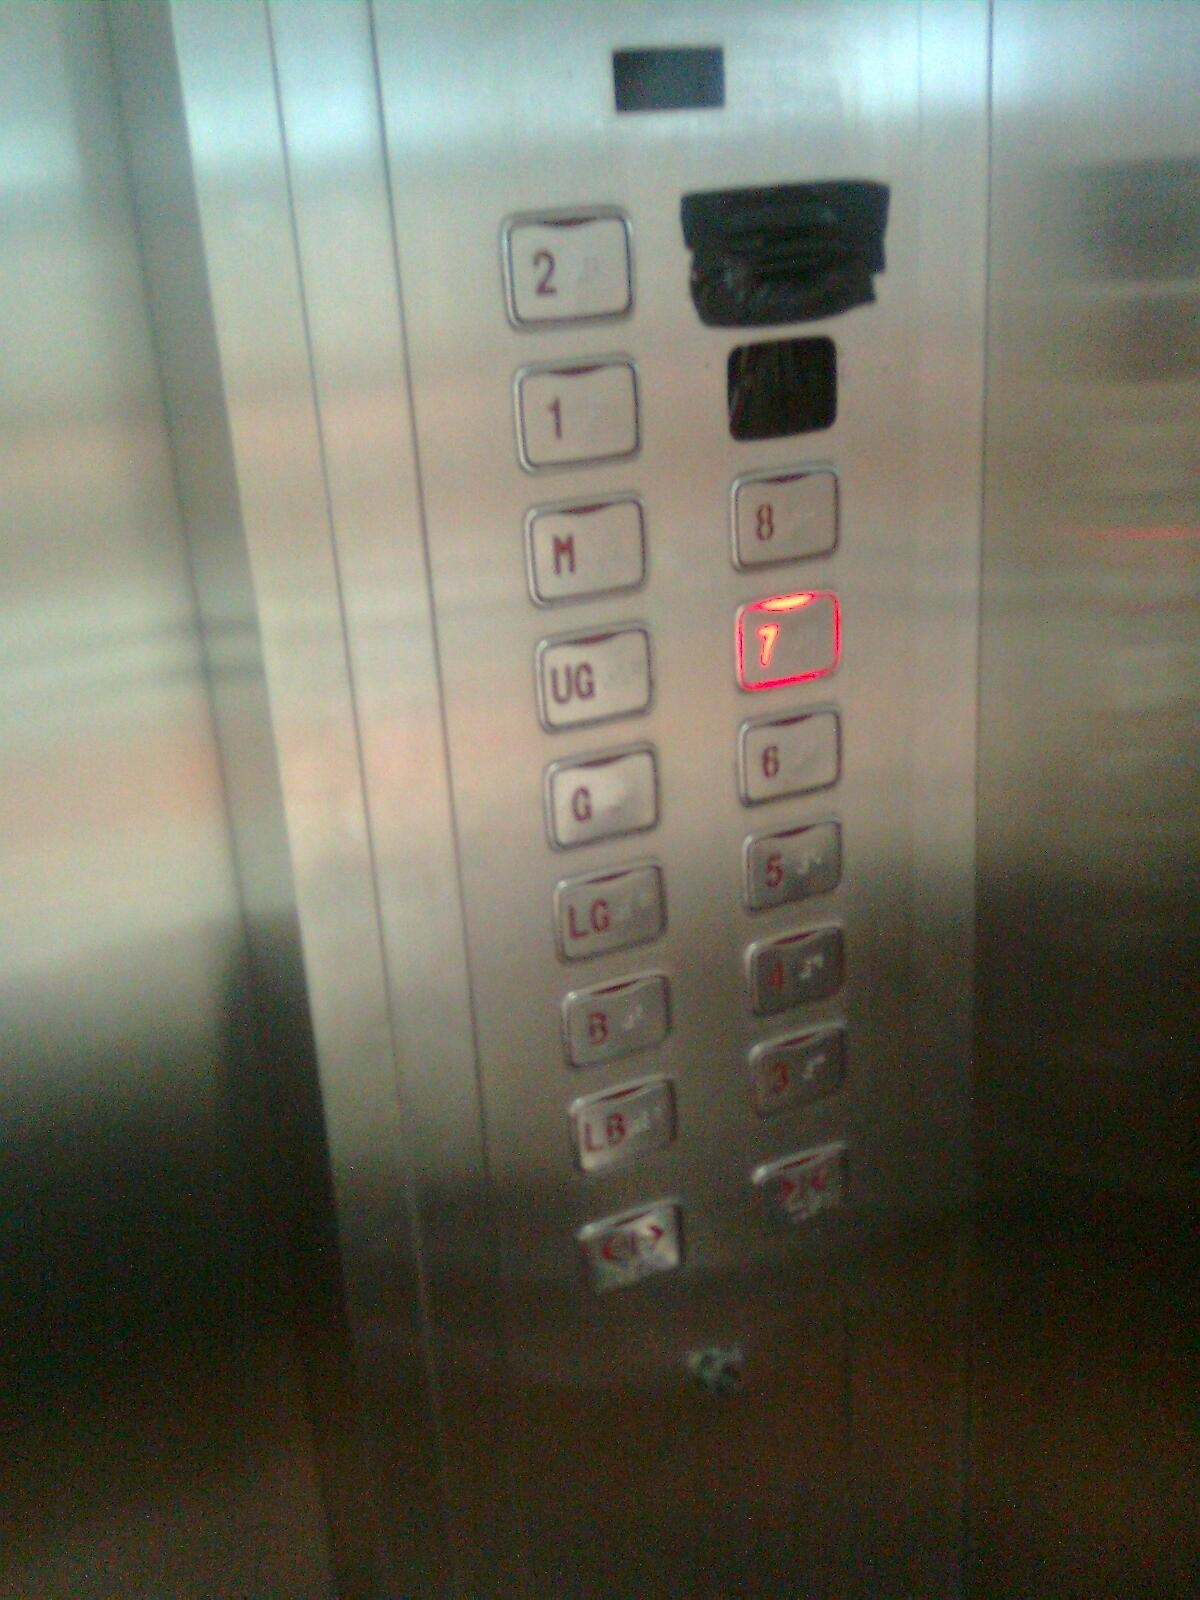1: (511, 350, 644, 475)
2: (495, 203, 638, 334)
3: (747, 1023, 848, 1117)
4: (744, 920, 845, 1015)
5: (742, 816, 843, 915)
6: (737, 704, 841, 808)
7: (734, 586, 847, 692)
8: (729, 459, 843, 573)
B: (561, 971, 672, 1067)
G: (542, 742, 661, 852)
LB: (567, 1075, 678, 1174)
LG: (551, 859, 668, 963)
M: (524, 489, 650, 609)
UG: (533, 621, 654, 733)
close: (749, 1141, 848, 1230)
empty: (722, 333, 839, 443)
led: (606, 42, 731, 115)
open: (577, 1199, 683, 1291)
